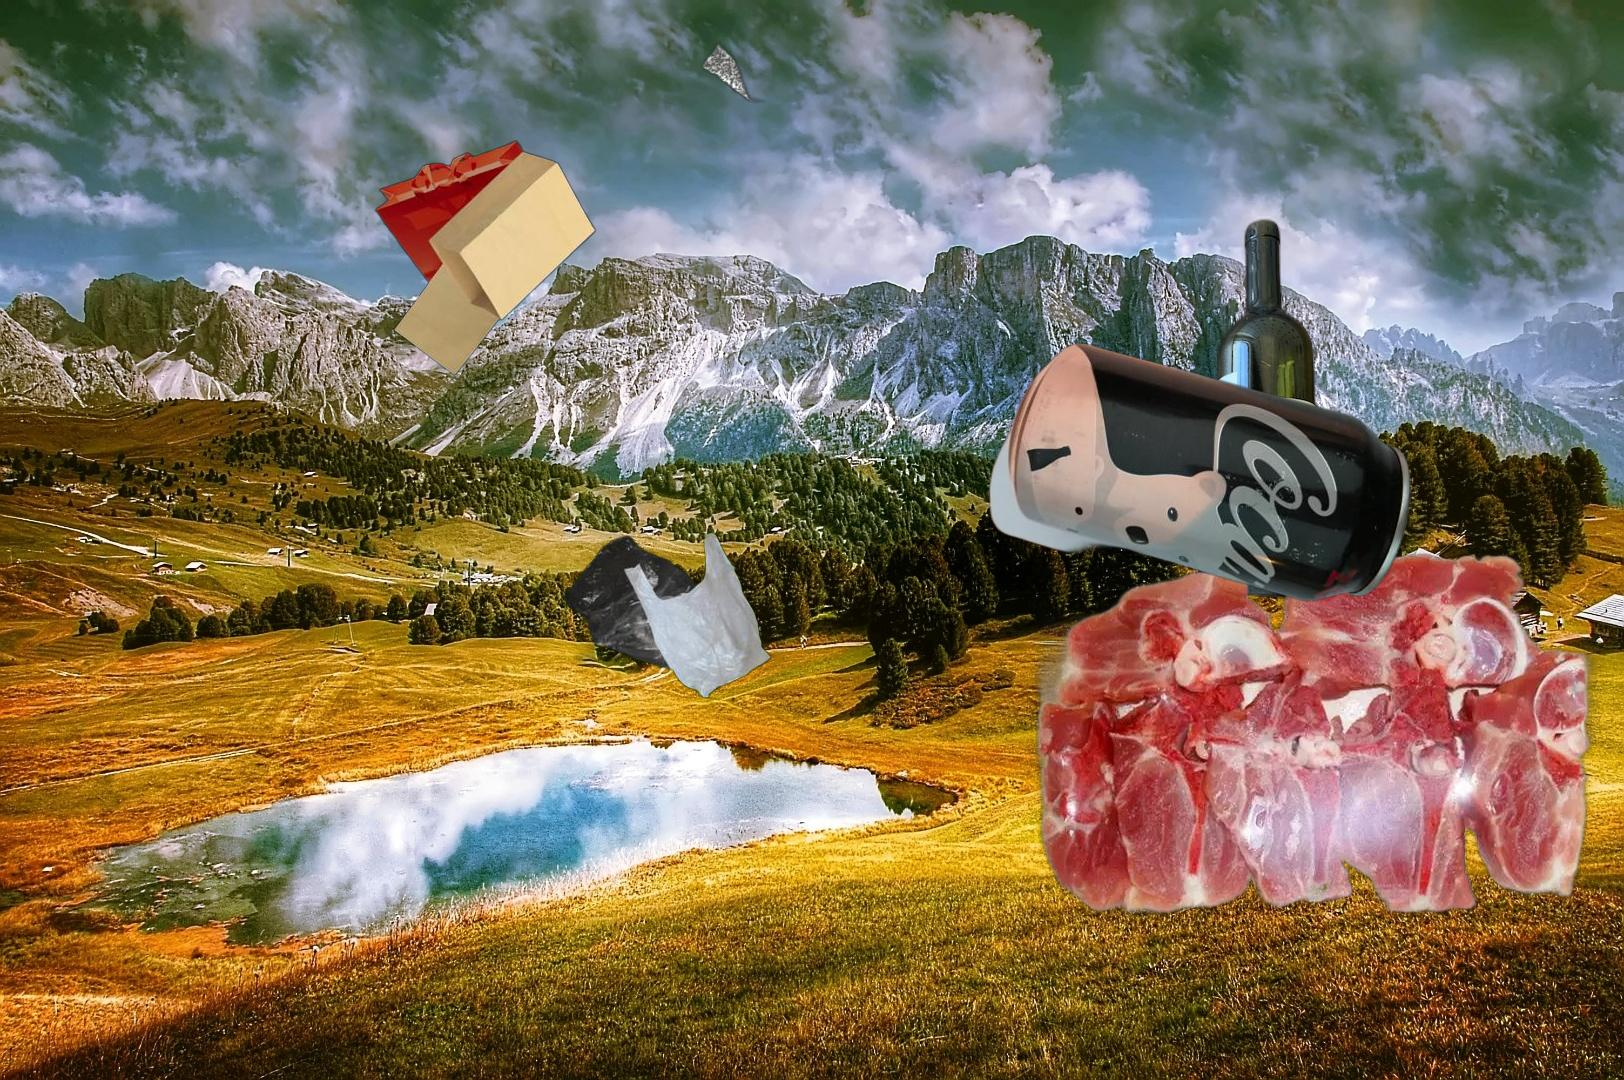biological: (1022, 524, 1620, 951)
glass: (1211, 215, 1325, 606)
metal-cans: (984, 340, 1416, 605)
paper: (698, 33, 767, 105)
paper-bag: (373, 137, 598, 378)
plastic-bag: (561, 529, 773, 703)
